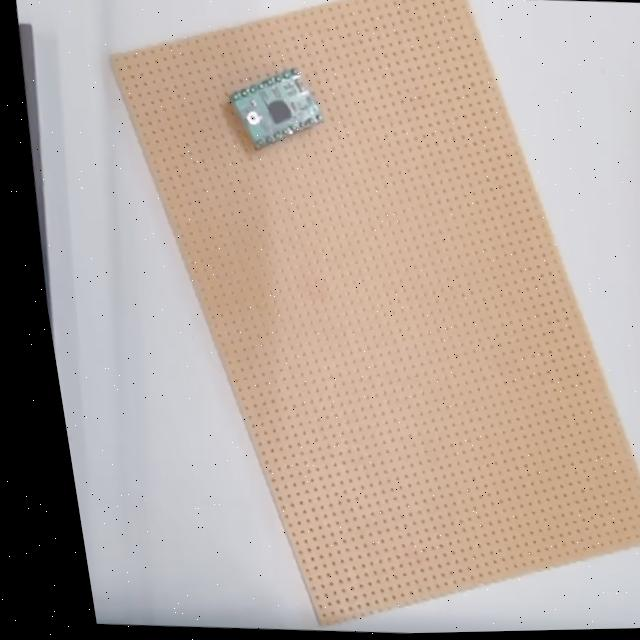Chip: (225, 60, 332, 154)
